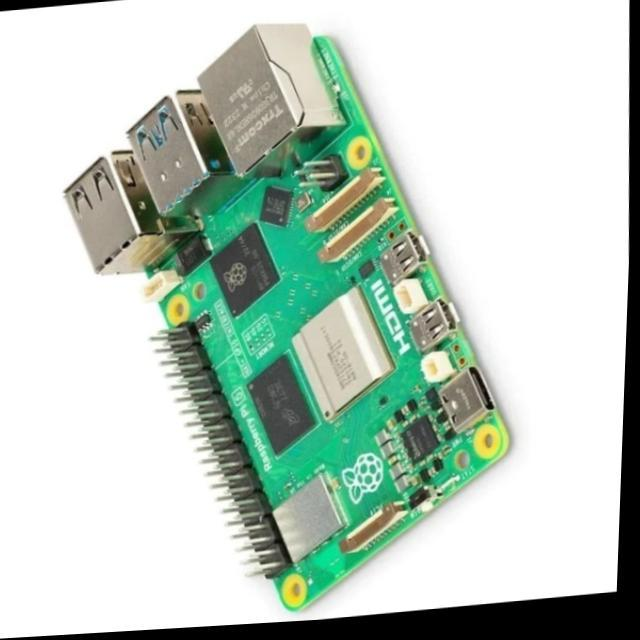Raspberry-Pi-5: (66, 26, 510, 611)
